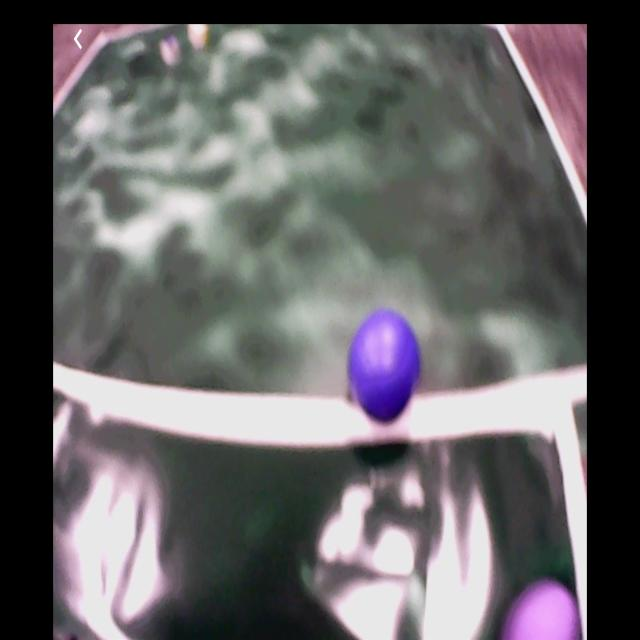ball: (350, 313, 421, 425), (503, 580, 584, 640)
